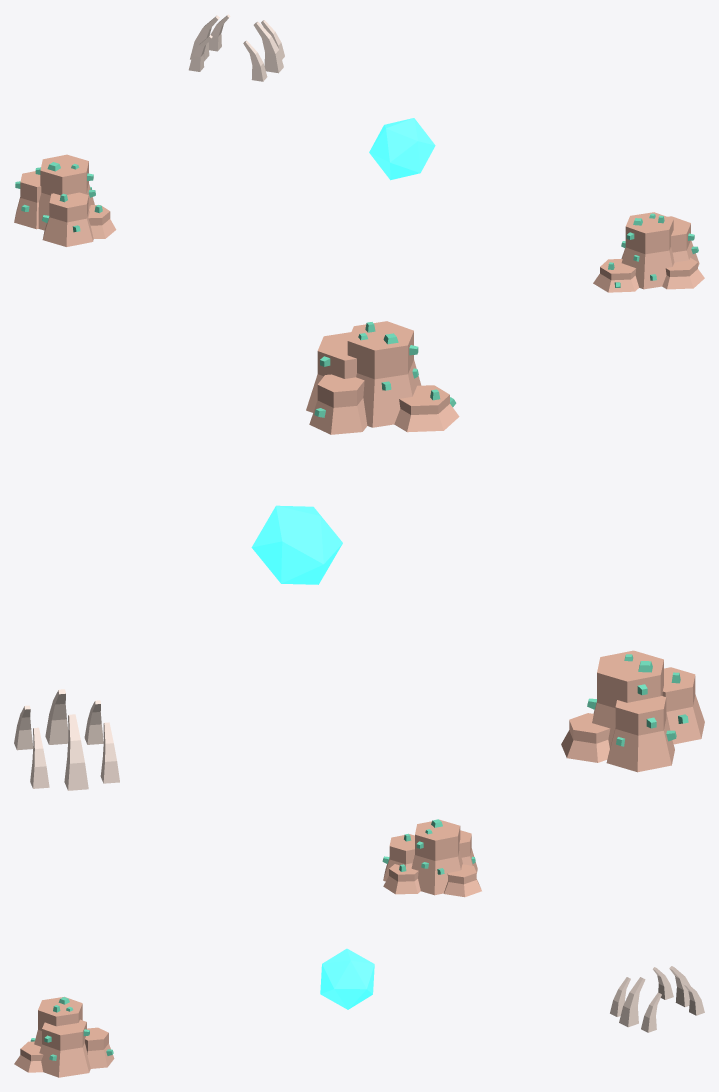
File: poi_alien_hive.glb
3 views of the same model, one above another, from view 1: azimuth 30°, elevation 25°; view 2: azimuth 150°, elevation 25°; view 3: azimuth 270°, elevation 25° (orthographic). The views are drawn at different scales.
Visible parts, largest first — view 1: rock_crystalsLargeA.001, rock_crystalsLargeB.001, Alien_Core, bones.001; view 2: rock_crystalsLargeB.001, rock_crystalsLargeA.001, Alien_Core, bones.001; view 3: rock_crystalsLargeA.001, rock_crystalsLargeB.001, bones.001, Alien_Core.
Part boxes in pixels (<box>): rock_crystalsLargeA.001: <box>14,154,116,246</box>; rock_crystalsLargeB.001: <box>593,212,704,292</box>; Alien_Core: <box>369,118,435,180</box>; bones.001: <box>188,14,284,81</box>; rock_crystalsLargeB.001: <box>306,321,459,434</box>; rock_crystalsLargeA.001: <box>561,650,704,772</box>; Alien_Core: <box>251,505,342,584</box>; bones.001: <box>14,689,119,790</box>; rock_crystalsLargeA.001: <box>382,819,481,897</box>; rock_crystalsLargeB.001: <box>14,996,114,1077</box>; bones.001: <box>610,966,704,1032</box>; Alien_Core: <box>320,948,374,1009</box>.
Bounding box in the file's own units: 5.21 × 0.6601 × 7.07.
